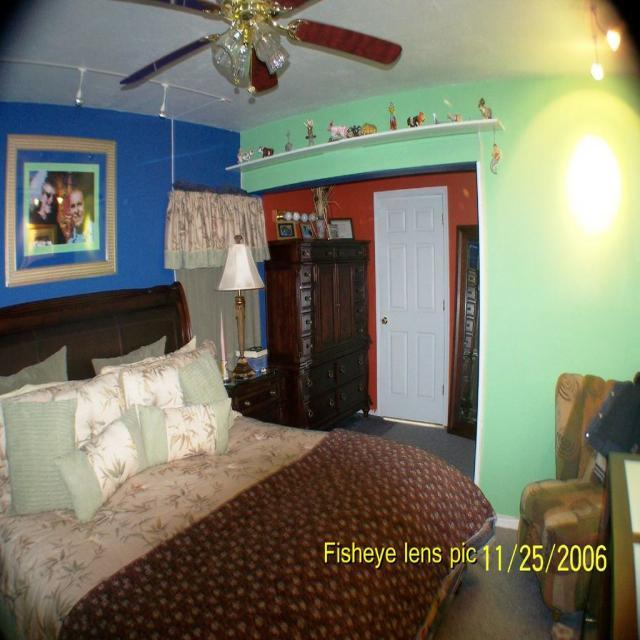bulb_on: (588, 62, 607, 82), (603, 31, 620, 50)
fan_off: (97, 0, 406, 91)
